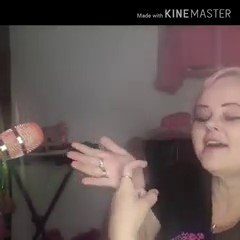R: (61, 134, 163, 240)
